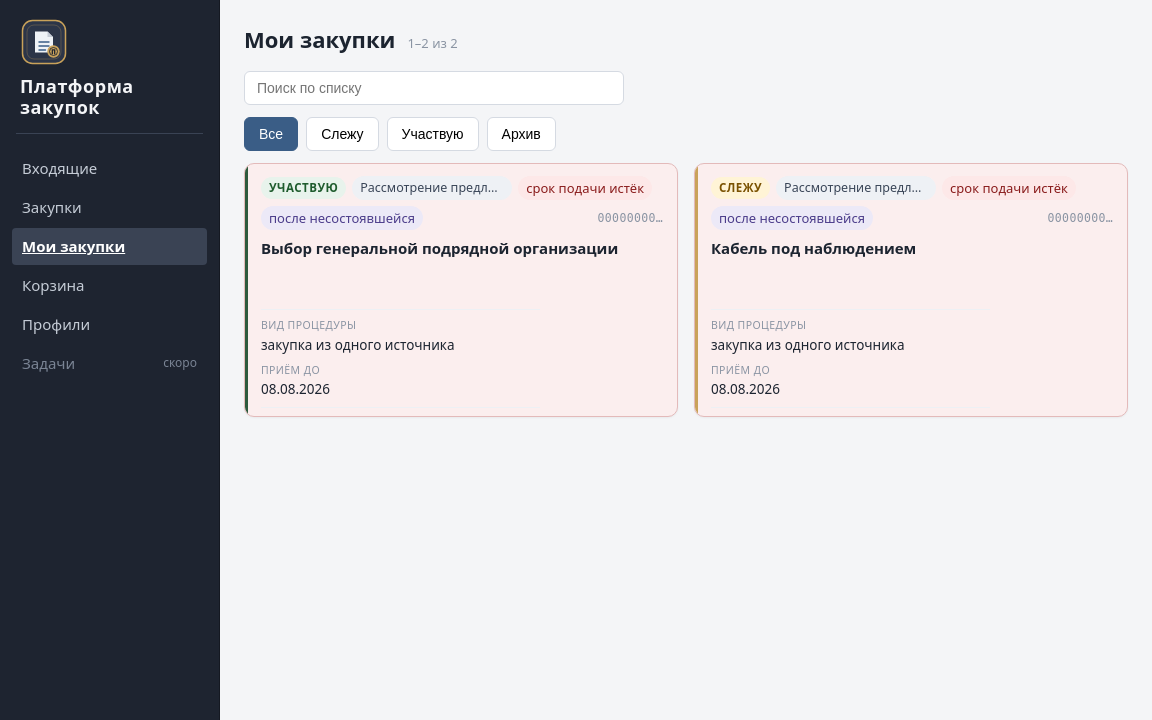
Scenario: MyProcurementsApp › reloads the list when the specialist switches Все / Слежу / Архив
Check: the text "Выбор генеральной подрядной организации" is shown, box 261,238 -> 618,259
Check: the text "Кабель под наблюдением" is shown, box 711,238 -> 916,259
Click the tab "Слежу": (342, 134) 306,117 -> 378,151
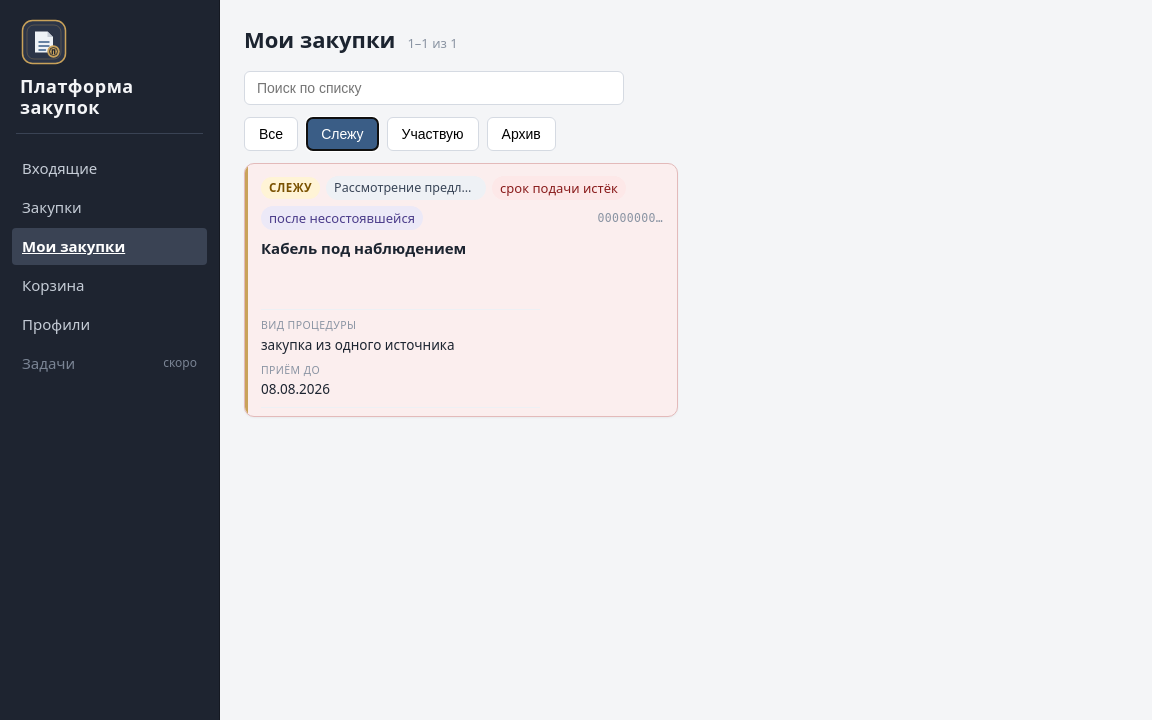
Check: the text "Кабель под наблюдением" is shown, box 261,238 -> 466,259
Check: the button "Выбор генеральной подрядной организации" is gone
Click the tab "Архив": (521, 134) 487,117 -> 556,151
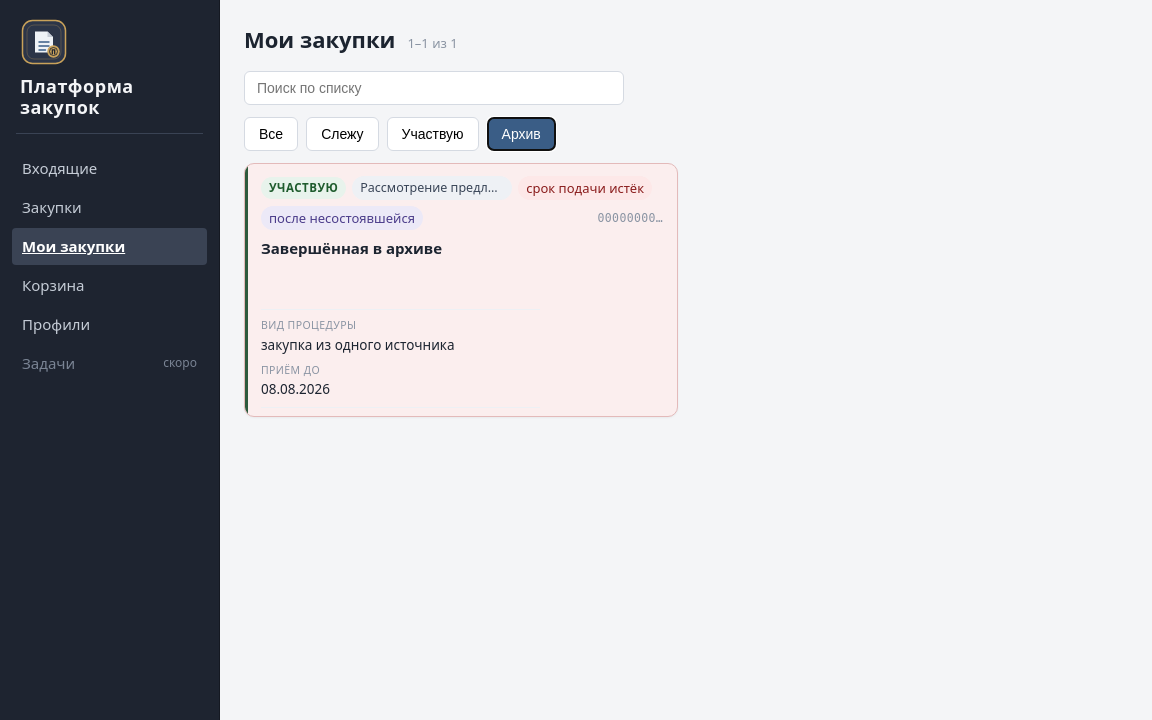
Check: the text "Завершённая в архиве" is shown, box 261,238 -> 442,259
Check: the button "Кабель под наблюдением" is gone
